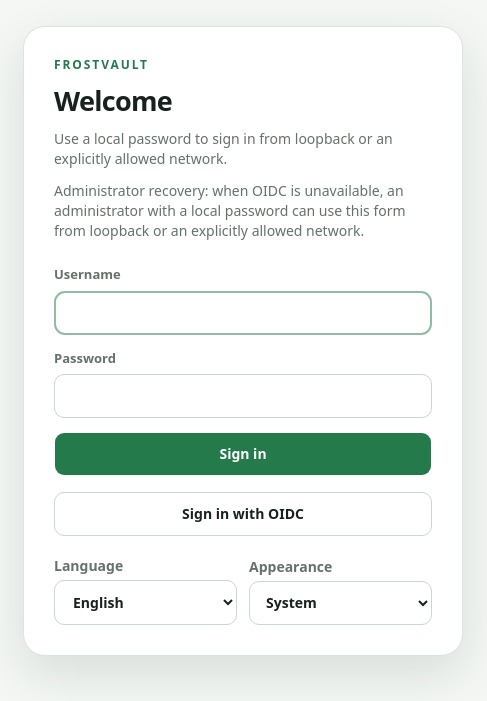
Test: LoginPage local sign-in › changes language via the locale switcher without losing typed input
Type "typed-user" into the field labelled "Username" at (243, 313), box [54, 291, 432, 335]
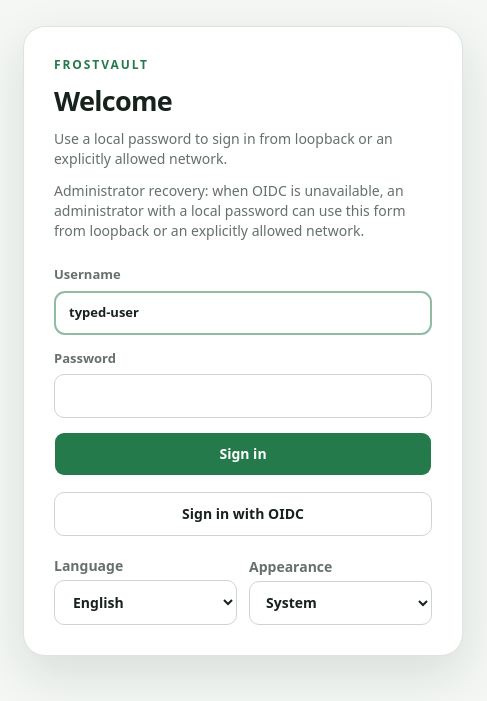
Type "typed-pass" into the password field labelled "Password" at (243, 396), box [54, 374, 432, 418]
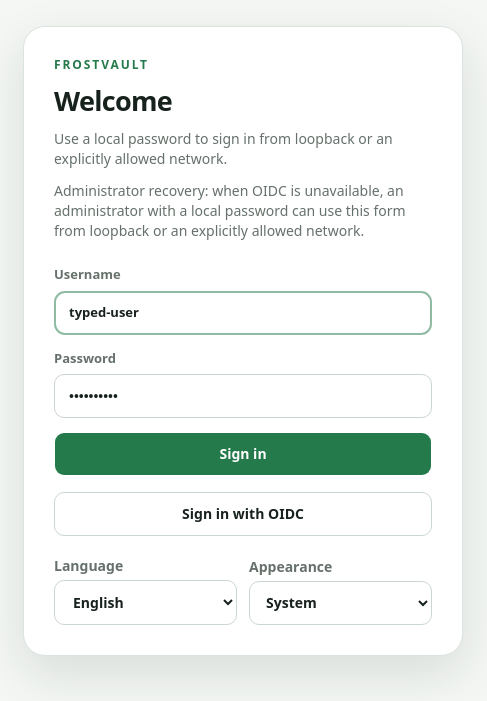
Select "Italiano" in the dropdown labelled "Language" at (146, 603), box [54, 580, 237, 625]
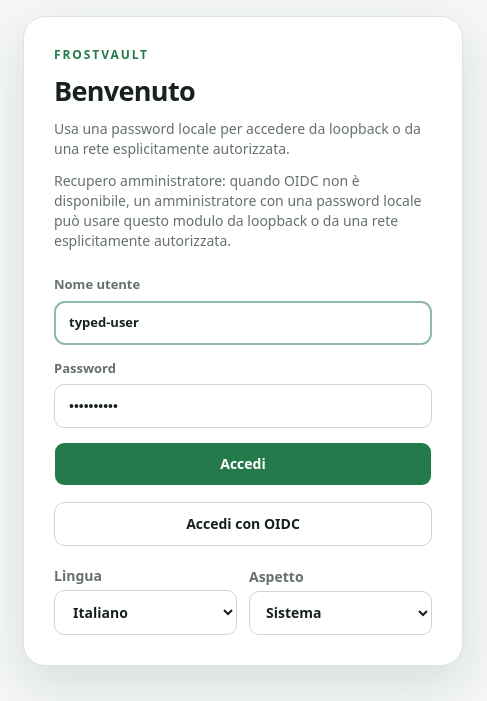
Check: the button "Accedi" is shown, box [54, 442, 432, 486]
Check: the text "Usa una password locale per accedere da loopback o da una rete esplicitamente autorizzata." is shown, box [54, 119, 421, 158]
Check: the text "Recupero amministratore: quando OIDC non è disponibile, un amministratore con una password locale può usare questo modul" is shown, box [54, 171, 422, 250]
